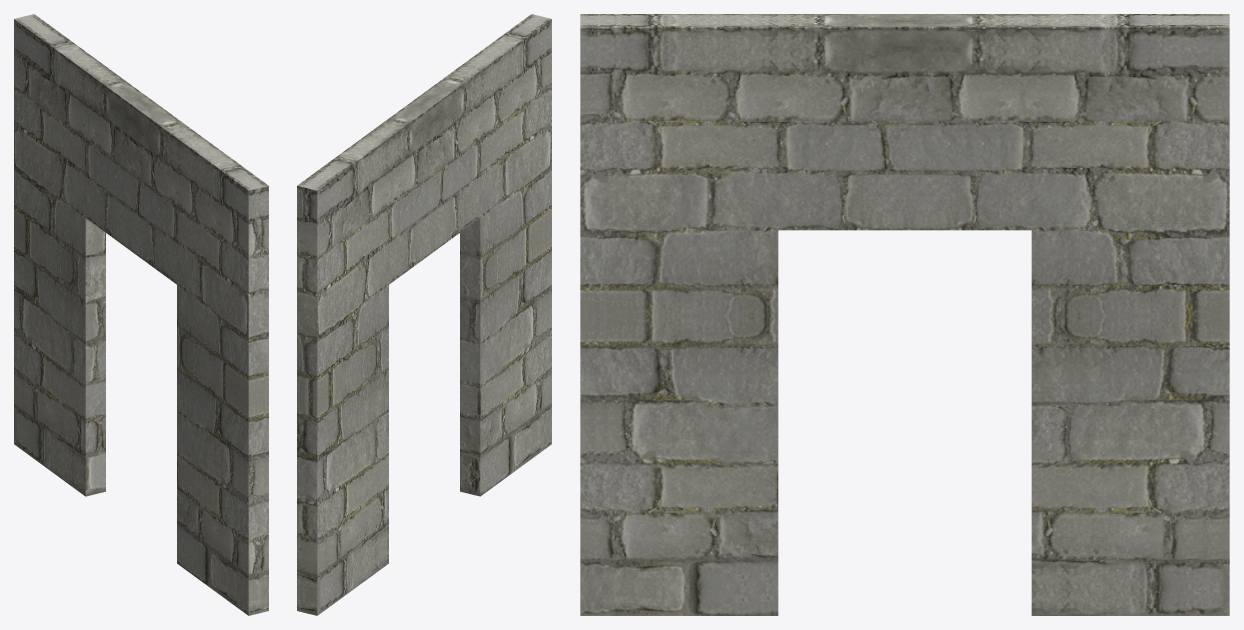
File: wall_2.fbx
The picture shows the model from 3 angles, left to right: view 1: azimuth 30°, elevation 25°; view 2: azimuth 150°, elevation 25°; view 3: azimuth 270°, elevation 25°; orthographic projection. The views are drawn at different scales.
Parts seen in each view (by area): view 1: wall_2; view 2: wall_2; view 3: wall_2.
Part boxes in pixels (bbox=[...]): wall_2: bbox=[14, 14, 268, 615]; wall_2: bbox=[297, 14, 551, 615]; wall_2: bbox=[580, 14, 1229, 615].
Bounding box in the file's own units: 10 × 200 × 200.
